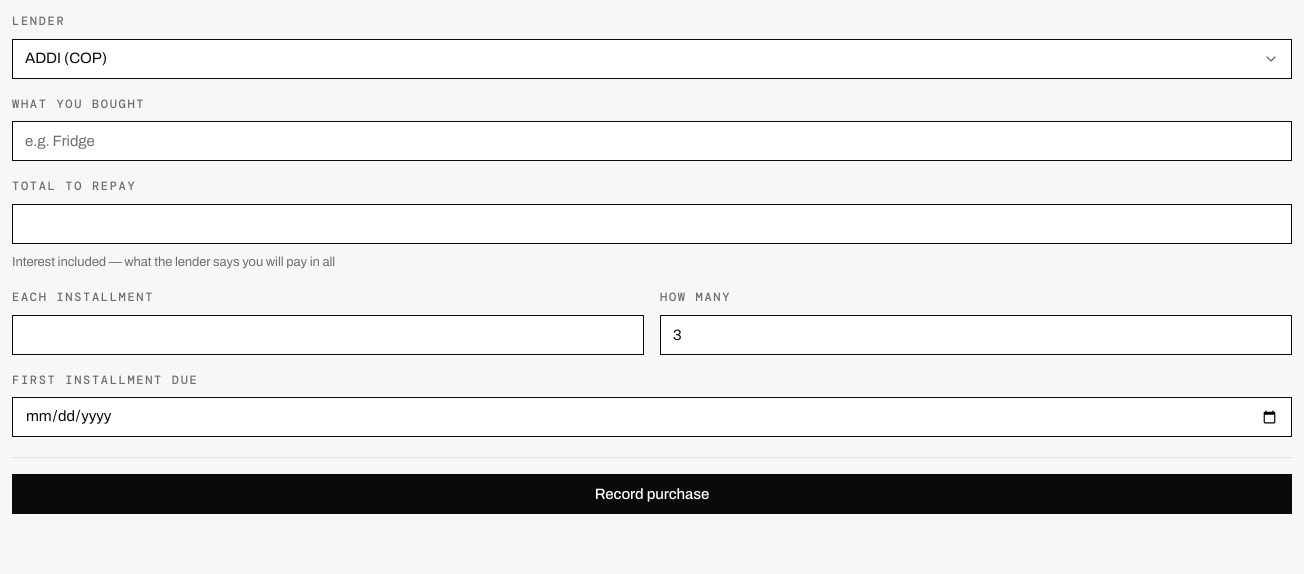
Test case: DebtForm › refuses a plan whose last installment would be empty
The width and height of the screenshot is (1304, 574).
Type "Nevera" into the field labelled "What you bought" at {"x": 652, "y": 141}, box [12, 121, 1292, 161]
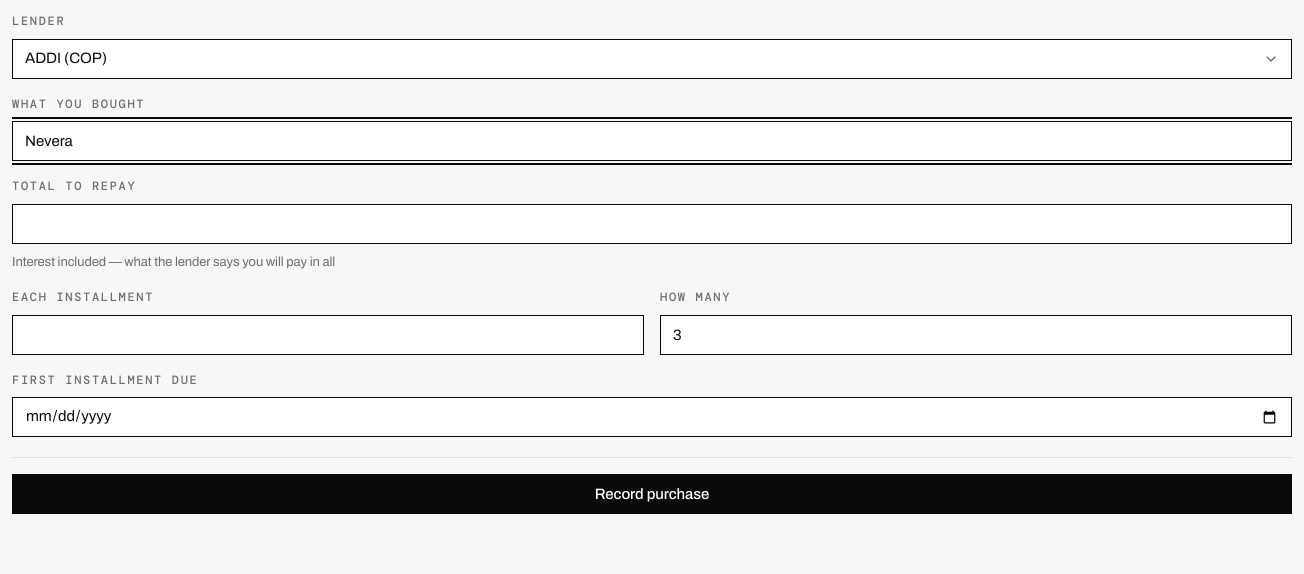
Type "600000" into the number field labelled "Total to repay" at {"x": 652, "y": 224}, box [12, 204, 1292, 244]
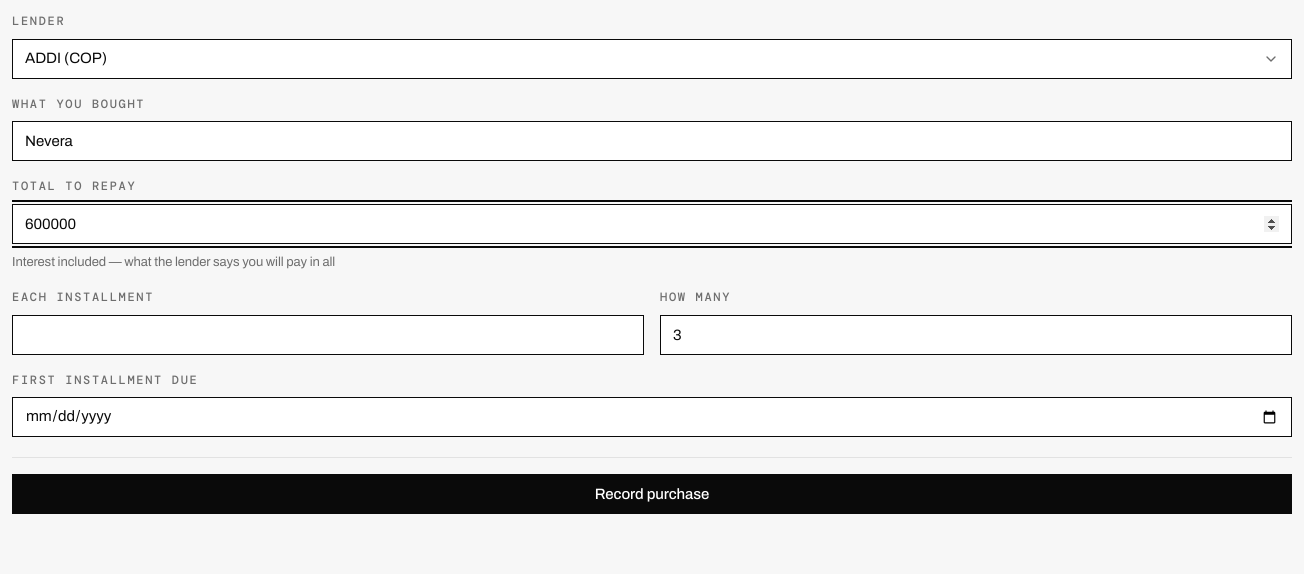
Type "600000" into the number field labelled "Each installment" at {"x": 328, "y": 334}, box [12, 314, 644, 354]
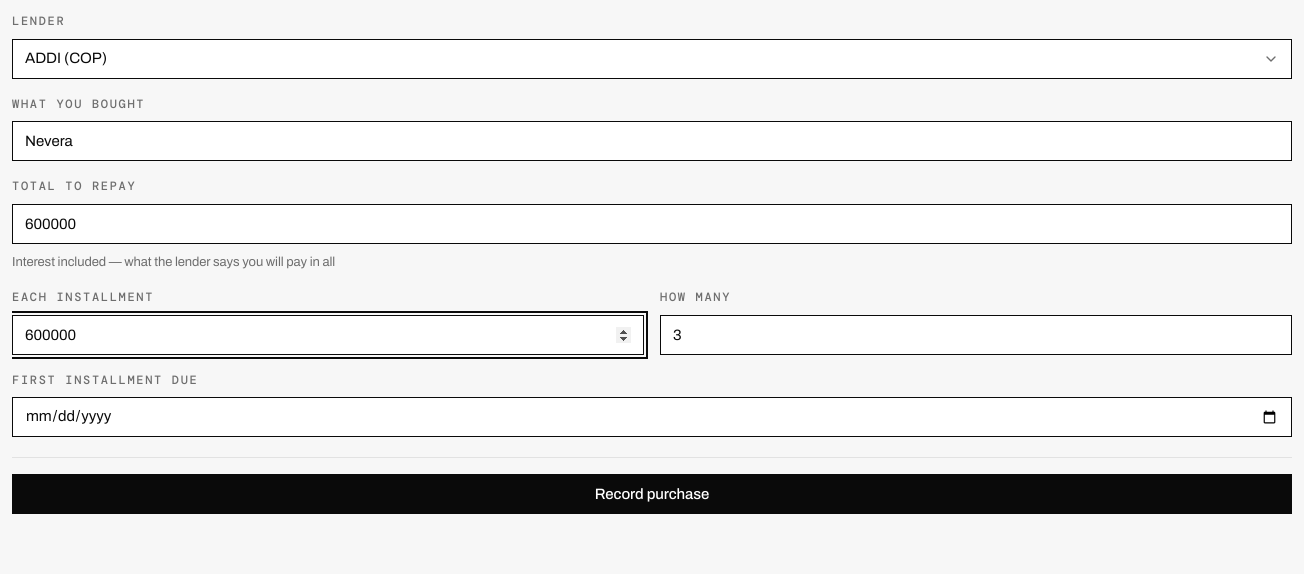
Replace the text in the number field labelled "How many" with "6" at {"x": 976, "y": 334}, box [660, 314, 1292, 354]
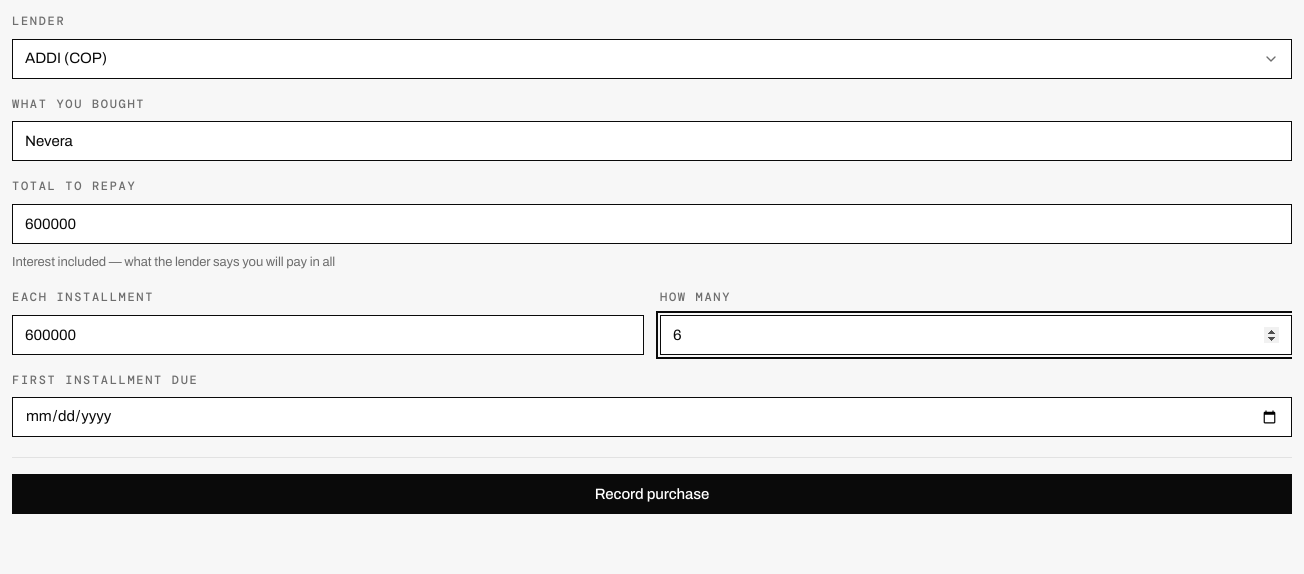
Type "2026-07-15" into the date field labelled "First installment due" at {"x": 652, "y": 417}, box [12, 397, 1292, 437]
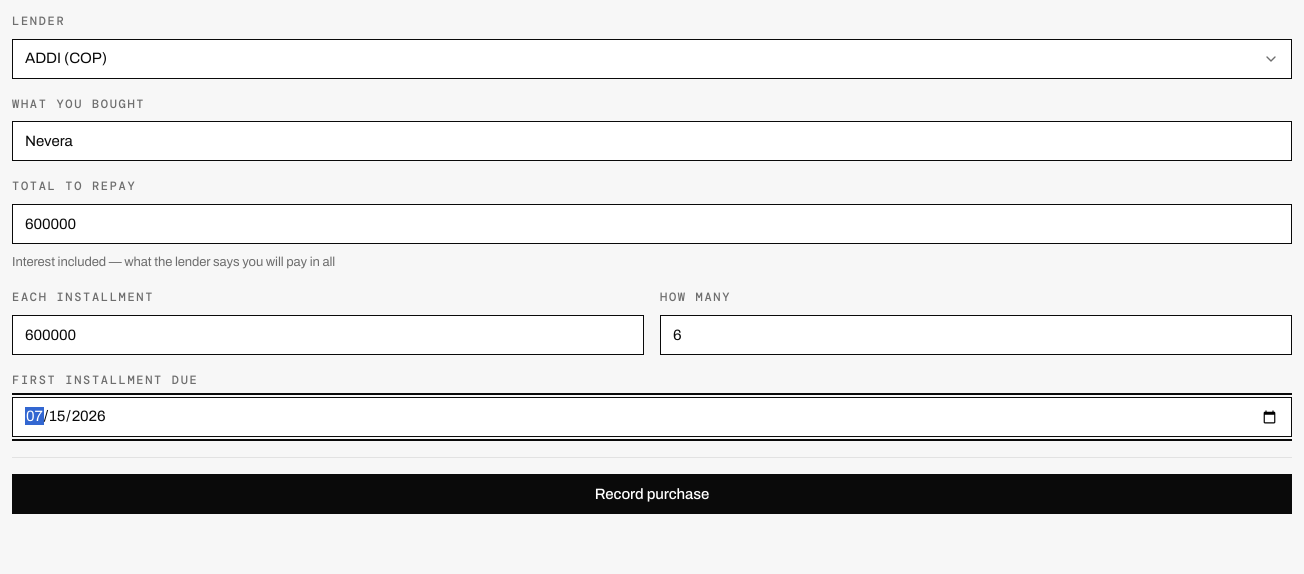
Click the button "Record purchase" at {"x": 652, "y": 494}, box [12, 474, 1292, 514]
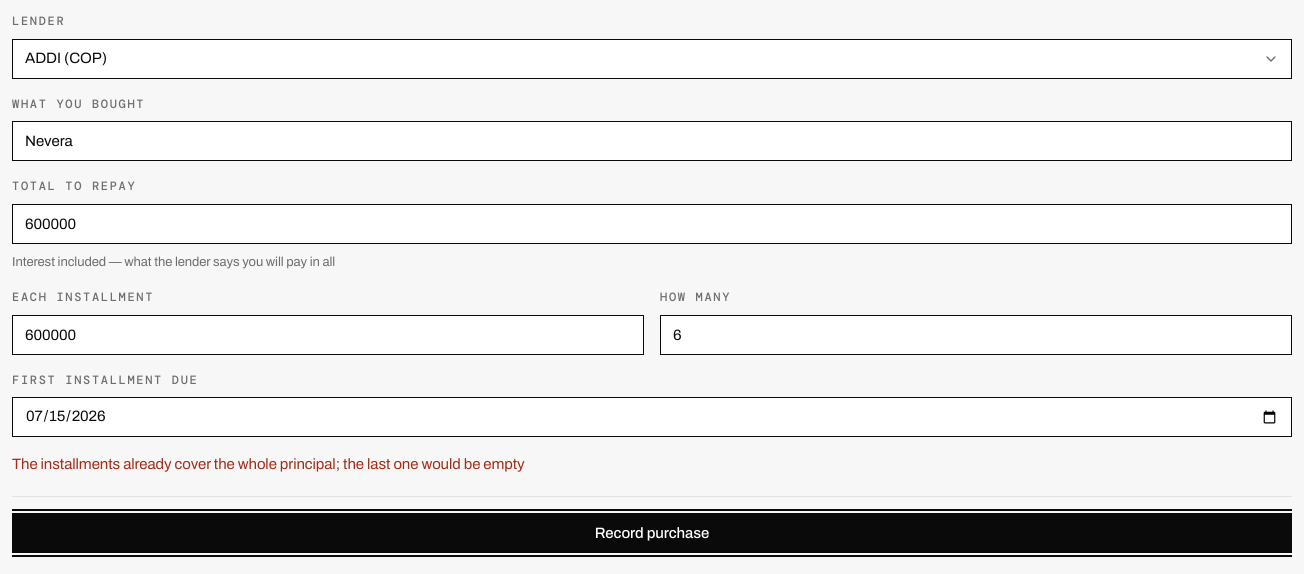
Now the text "last one would be empty" is shown, box [12, 456, 525, 472]
